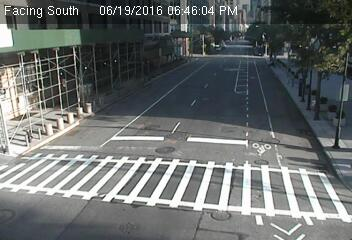neg: (55, 71, 71, 93), (314, 68, 329, 88)
